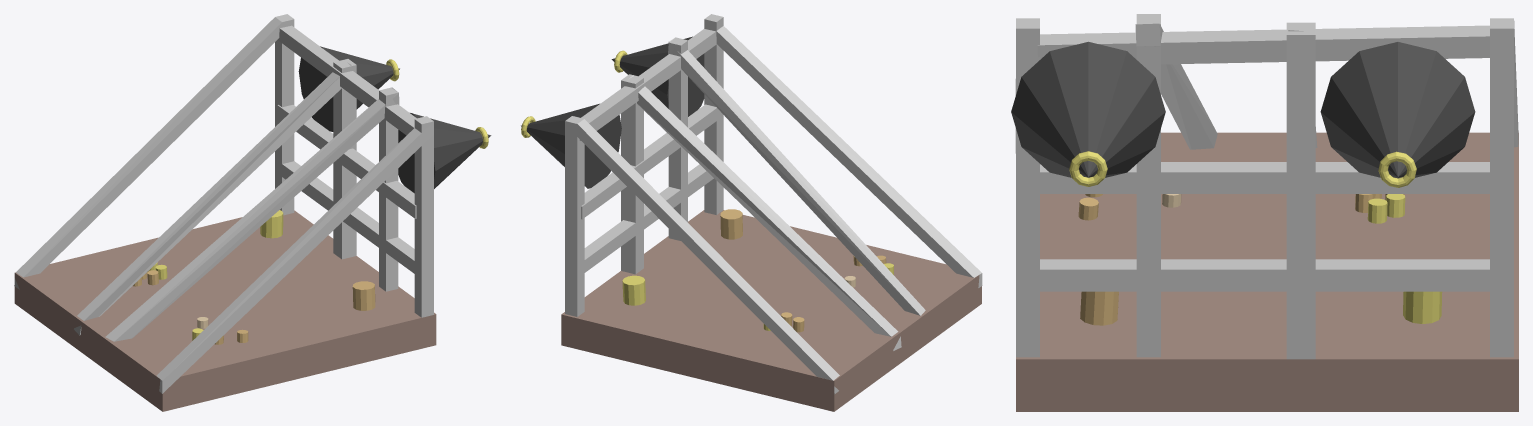
Rendered from CritterInProgressBuilding.fbx.
3 renders of one model, left to right at view 1: azimuth 30°, elevation 25°; view 2: azimuth 150°, elevation 25°; view 3: azimuth 270°, elevation 25°, orthographic. The views are drawn at different scales.
Visible parts, largest first — view 1: mesh_116271659, mesh_459058135, mesh_547642453, mesh_672642852, mesh_2136287785, mesh_1168350541, mesh_1338116098, mesh_1197355366, mesh_1038837861, mesh_254448728, mesh_1454572231, mesh_699801220 (+4 smaller); view 2: mesh_116271659, mesh_547642453, mesh_2136287785, mesh_672642852, mesh_459058135, mesh_978151795, mesh_1038837861, mesh_1338116098, mesh_1344652100, mesh_699801220, mesh_1454572231, mesh_1168350541 (+4 smaller); view 3: mesh_116271659, mesh_1344652100, mesh_1197355366, mesh_1454572231, mesh_1338116098, mesh_1038837861, mesh_699801220, mesh_978151795, mesh_254448728, mesh_1168350541, mesh_459058135, mesh_1409086672 (+5 smaller).
Boxes of the visible parts, x1=… form: mesh_116271659: x1=14, y1=210, x2=436, y2=411; mesh_459058135: x1=105, y1=87, x2=399, y2=341; mesh_547642453: x1=156, y1=122, x2=433, y2=393; mesh_672642852: x1=14, y1=17, x2=281, y2=289; mesh_2136287785: x1=74, y1=62, x2=351, y2=335; mesh_1168350541: x1=414, y1=116, x2=433, y2=317; mesh_1338116098: x1=277, y1=25, x2=416, y2=135; mesh_1197355366: x1=398, y1=113, x2=491, y2=193; mesh_1038837861: x1=333, y1=59, x2=356, y2=259; mesh_254448728: x1=379, y1=87, x2=398, y2=291; mesh_1454572231: x1=282, y1=161, x2=415, y2=274; mesh_699801220: x1=277, y1=105, x2=416, y2=218; mesh_116271659: x1=561, y1=210, x2=981, y2=411; mesh_547642453: x1=716, y1=26, x2=982, y2=287; mesh_2136287785: x1=629, y1=75, x2=901, y2=350; mesh_672642852: x1=577, y1=119, x2=839, y2=394; mesh_459058135: x1=668, y1=37, x2=925, y2=315; mesh_978151795: x1=565, y1=116, x2=584, y2=316; mesh_1038837861: x1=621, y1=74, x2=643, y2=274; mesh_1338116098: x1=579, y1=29, x2=716, y2=140; mesh_1344652100: x1=521, y1=103, x2=621, y2=188; mesh_699801220: x1=581, y1=104, x2=719, y2=219; mesh_1454572231: x1=584, y1=164, x2=713, y2=272; mesh_1168350541: x1=704, y1=14, x2=723, y2=214; mesh_116271659: x1=1016, y1=132, x2=1518, y2=411; mesh_1344652100: x1=1320, y1=42, x2=1475, y2=178; mesh_1197355366: x1=1011, y1=41, x2=1165, y2=177; mesh_1454572231: x1=1040, y1=259, x2=1499, y2=291; mesh_1338116098: x1=1037, y1=25, x2=1489, y2=64; mesh_1038837861: x1=1286, y1=22, x2=1315, y2=359; mesh_699801220: x1=1040, y1=162, x2=1489, y2=193; mesh_978151795: x1=1490, y1=18, x2=1513, y2=357; mesh_254448728: x1=1136, y1=14, x2=1160, y2=357; mesh_1168350541: x1=1016, y1=18, x2=1039, y2=357; mesh_459058135: x1=1135, y1=23, x2=1217, y2=149; mesh_1409086672: x1=1080, y1=291, x2=1118, y2=325.
Size of the model in its own units: 143 by 88.21 by 105.
